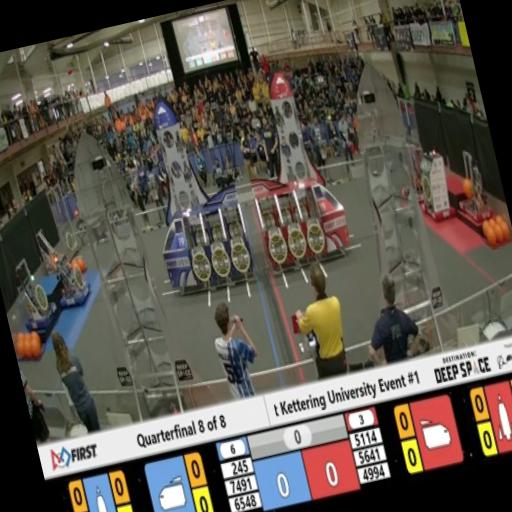robot: (407, 146, 460, 230), (445, 144, 498, 226), (10, 252, 62, 331), (388, 133, 438, 204), (50, 257, 95, 312), (32, 220, 73, 280)
